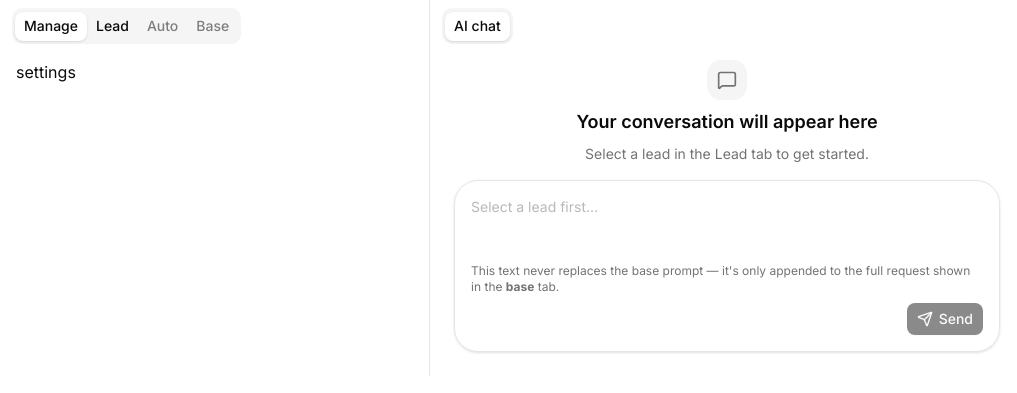
Test case: AiPromptWorkspace › selecting a lead shows compact Auto Pick lines and None as Your Pick for report
Click the tab "Lead": (112, 26) left=87, top=12, right=138, bottom=40
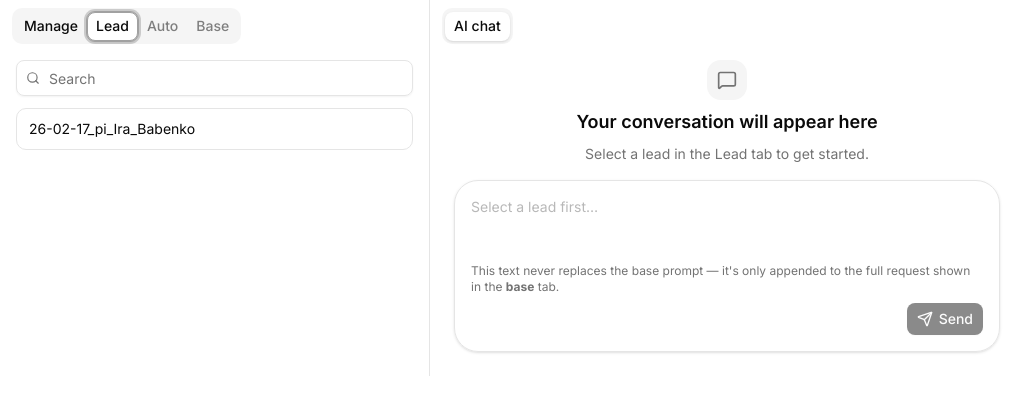
Click the button "26-02-17_pi_Ira_Babenko": (112, 128) left=16, top=108, right=413, bottom=150
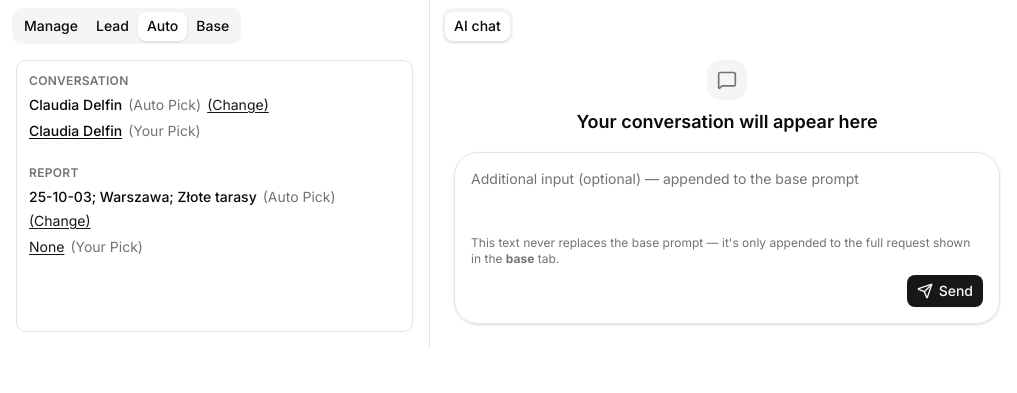
Result: the text "25-10-03; Warszawa; Złote tarasy" is shown at left=29, top=187, right=257, bottom=207
Result: the text "Claudia Delfin" is shown at left=29, top=95, right=122, bottom=115
Result: the button "None" is shown at left=29, top=237, right=64, bottom=257
